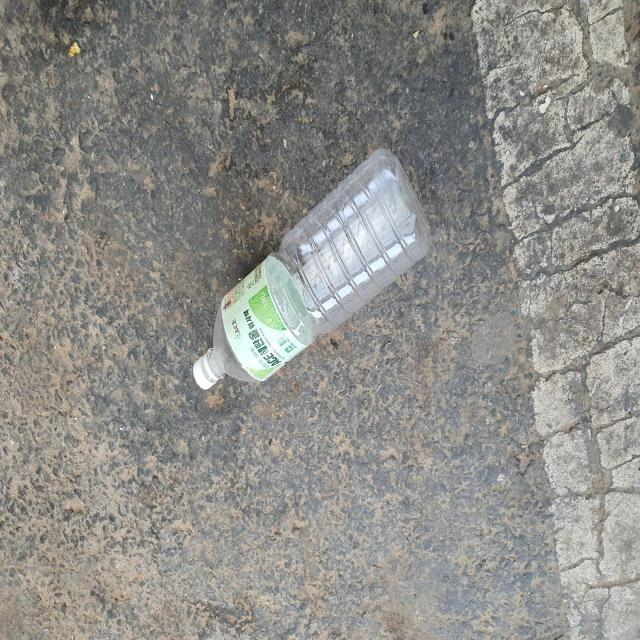plastic: (193, 148, 432, 390)
